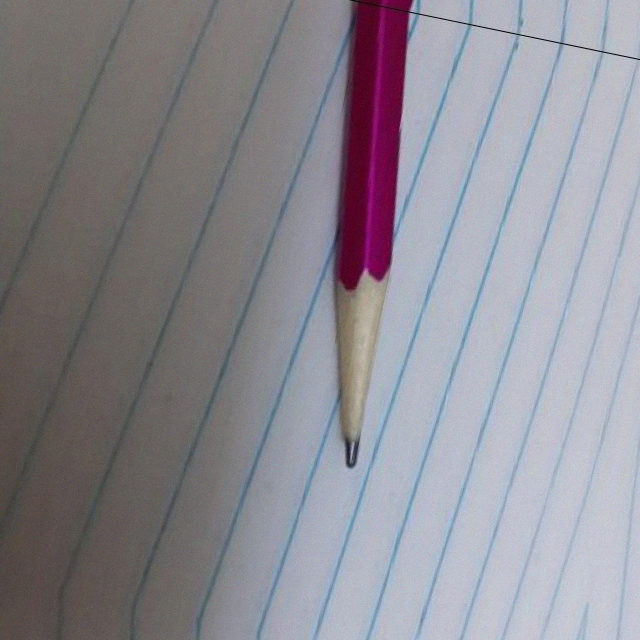pencil: (298, 257, 419, 481)
